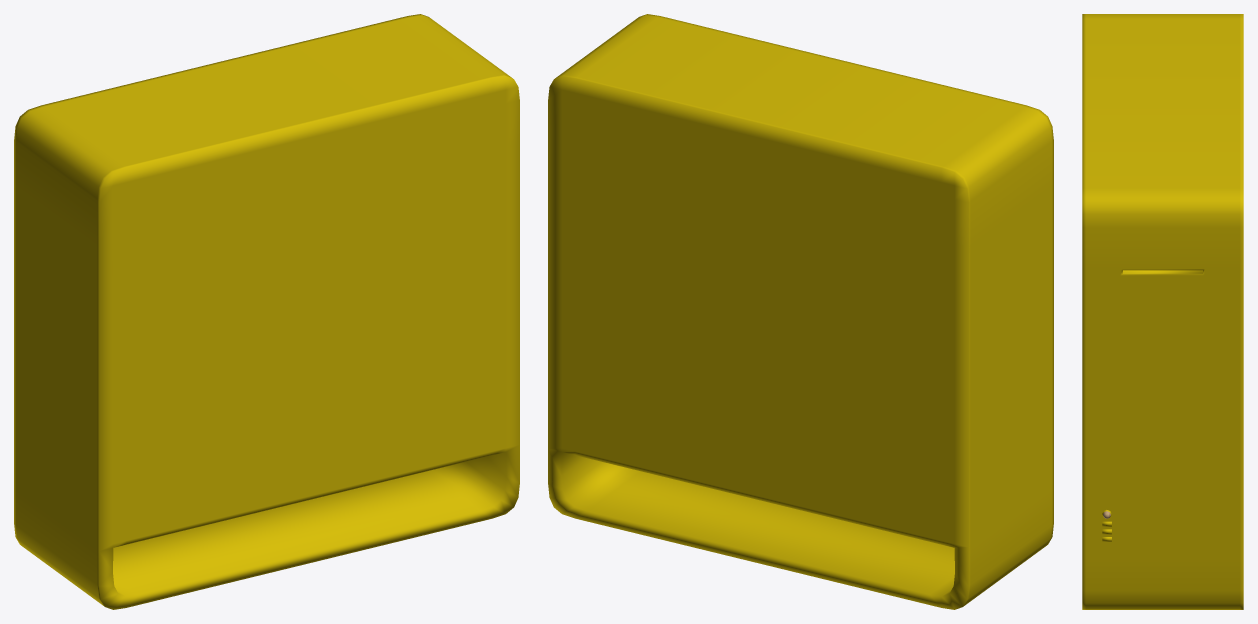
The model's file is MOD_ELE_CPU_case_01.fbx.
3 renders of one model, left to right at view 1: azimuth 30°, elevation 25°; view 2: azimuth 150°, elevation 25°; view 3: azimuth 270°, elevation 25°, orthographic. The views are drawn at different scales.
Parts seen in each view (by area): view 1: HSHP_MOD_CPU_case; view 2: HSHP_MOD_CPU_case; view 3: HSHP_MOD_CPU_case.
Part boxes in pixels (bbox=[...]): HSHP_MOD_CPU_case: bbox=[14, 14, 519, 609]; HSHP_MOD_CPU_case: bbox=[548, 14, 1053, 609]; HSHP_MOD_CPU_case: bbox=[1082, 14, 1243, 609].
Size of the model in its own units: 0.746 by 0.736 by 0.2587.
